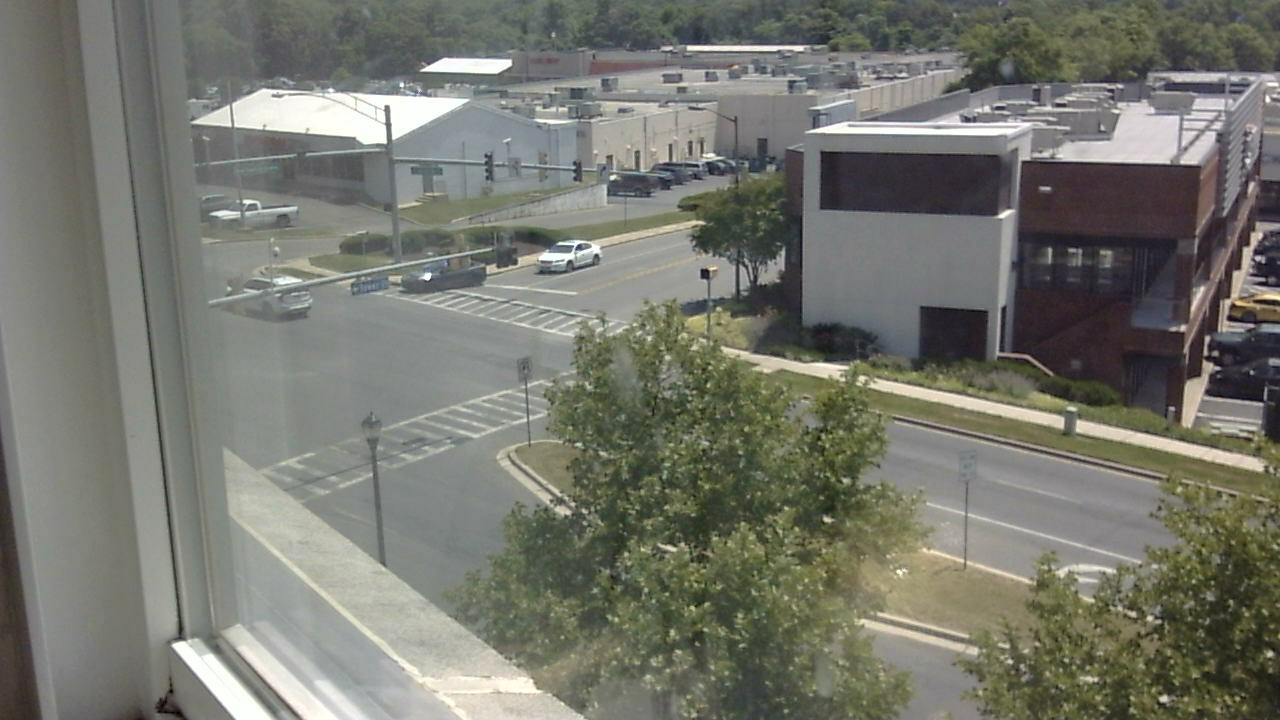Car: (393, 226, 501, 312), (227, 270, 334, 337), (530, 227, 609, 289)
